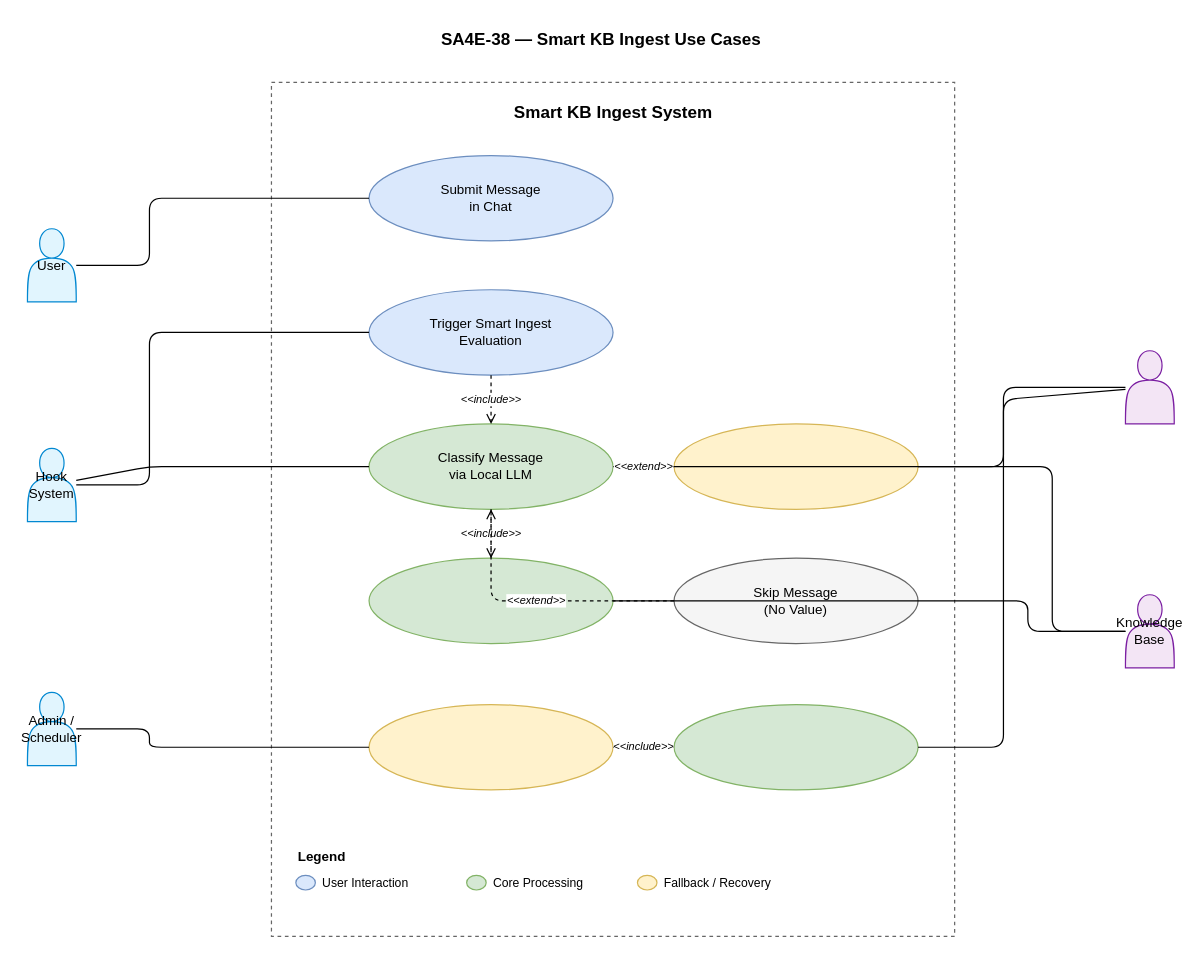
Some shapes in this 1203 by 958 pixel diagram are drawn without their labels. The shapes that lost their labels are listed below. From the top down, each one's centre as x and y in pixels, then its label:
At [1149,387]: "Ollama LLM".
At [795,466]: "Fallback: Ingest Unfiltered Entry".
At [490,600]: "Auto-Ingest Summary to KB".
At [490,746]: "Batch Cleanup Unfiltered Entries".
At [795,746]: "Re-evaluate Entry via LLM".
